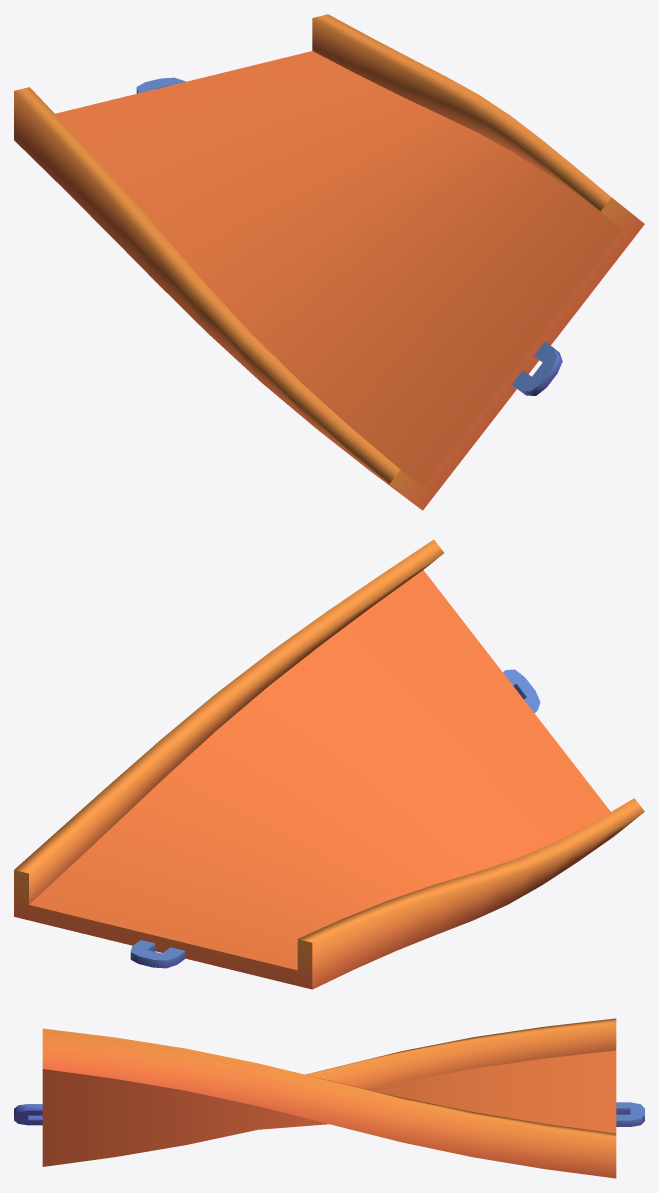
File: kenney-toy-car-track-wide-straight-skew-right.glb
3 views of the same model, one above another, from view 1: azimuth 30°, elevation 25°; view 2: azimuth 150°, elevation 25°; view 3: azimuth 270°, elevation 25° (orthographic). The views are drawn at different scales.
Visible parts, largest first — view 1: track-wide-straight-skew-right; view 2: track-wide-straight-skew-right; view 3: track-wide-straight-skew-right.
Part boxes in pixels (x1,y1,x2,y2): track-wide-straight-skew-right: [14, 14, 644, 510]; track-wide-straight-skew-right: [14, 539, 644, 989]; track-wide-straight-skew-right: [14, 1018, 644, 1178].
Bounding box in the file's own units: 2.04 × 1.63 × 4.4.
1 material, 1 textured.
